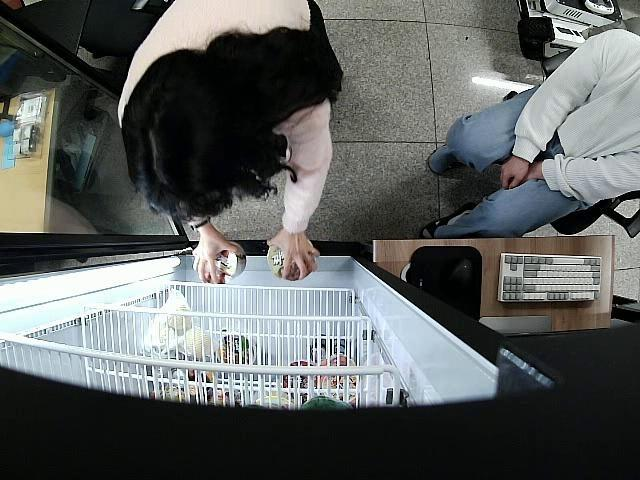03_chapagetti_L: (193, 243, 244, 284), (267, 246, 312, 281)
